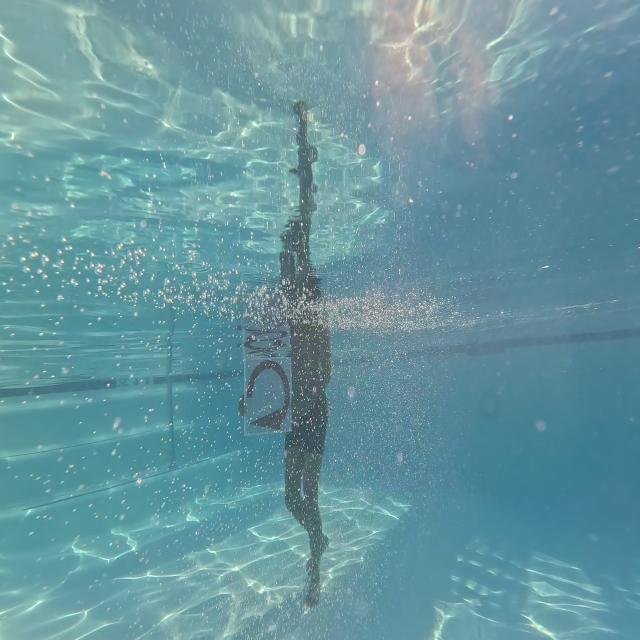red_side: (238, 347, 296, 435)
